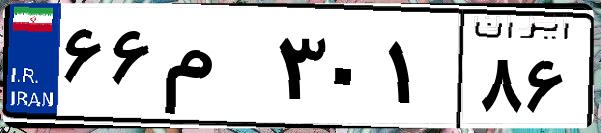0: (330, 28, 385, 110)
1: (385, 28, 445, 110)
3: (270, 28, 330, 110)
6: (57, 26, 110, 100), (525, 38, 570, 115), (110, 28, 158, 98)
8: (475, 38, 525, 113)
م: (158, 20, 270, 120)
